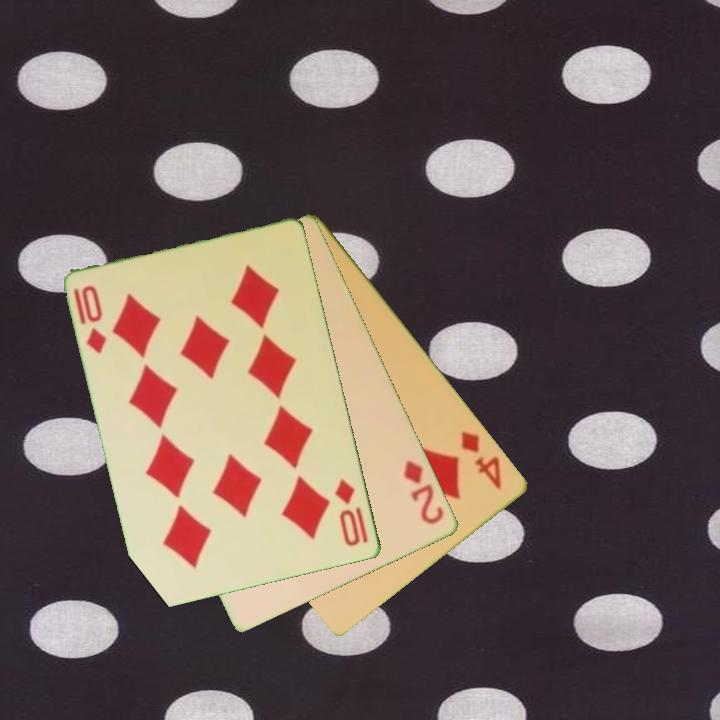10d: (332, 475, 372, 550), (70, 282, 110, 357)
2d: (401, 457, 447, 528)
4d: (458, 427, 505, 493)
